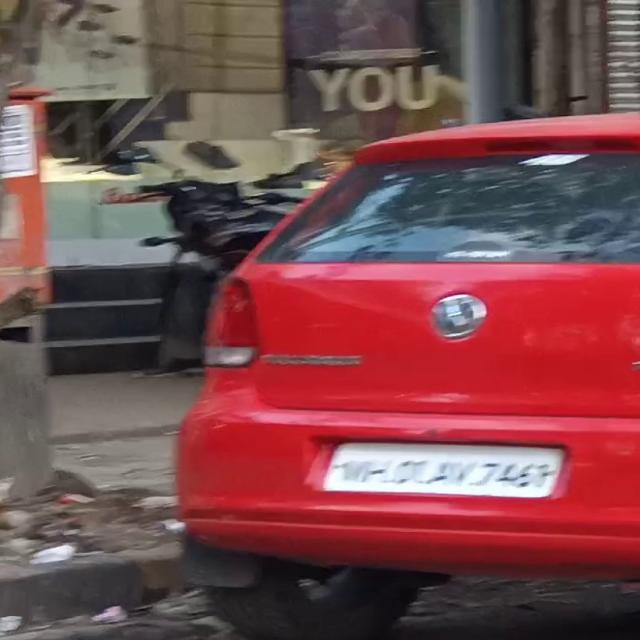licenseplate: (317, 438, 568, 501)
